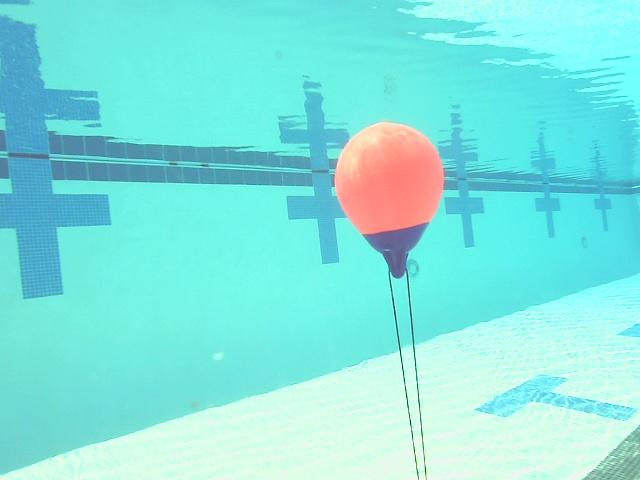buoy: (335, 121, 445, 279)
